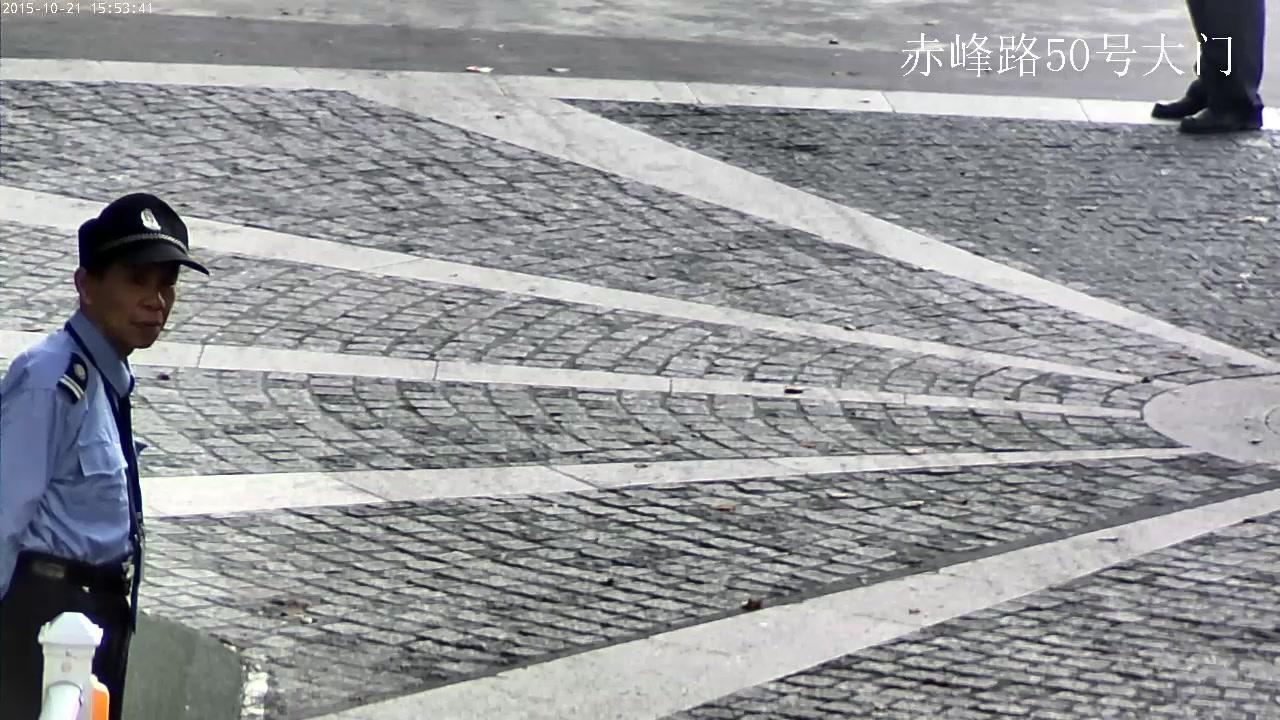face: (94, 263, 178, 348)
